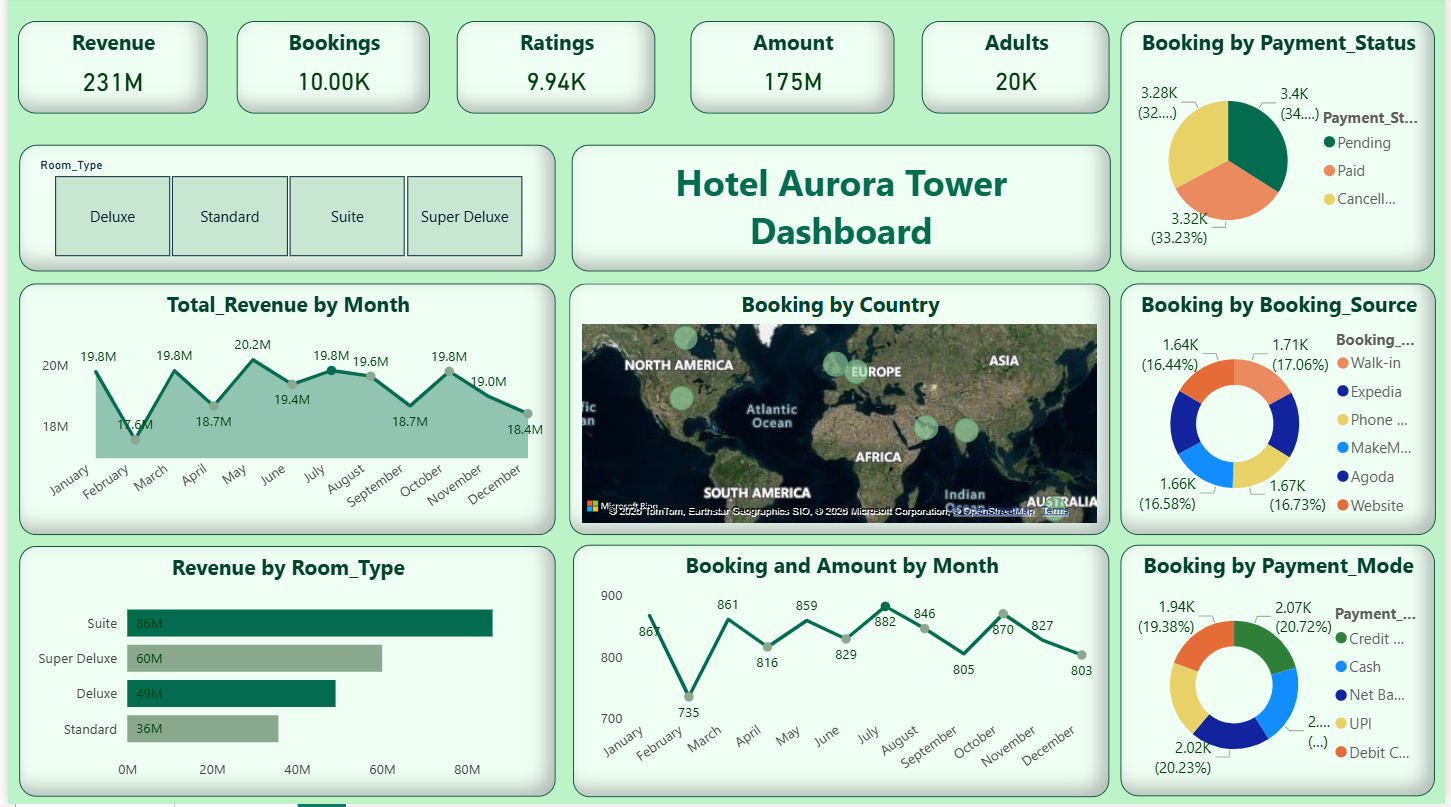

Layout of this report page (visuals, bound fields, positions):
{"tool":"powerbi","page":{"name":"final Dashboard","canvas":[1280,720],"ordinal":0},"visuals":[{"type":"pieChart","title":"Booking by Payment_Status","fields":{"Category":["Hotel Aurora Towers.Payment_Status"],"Y":["CountNonNull(Hotel Aurora Towers.Booking_ID)"]},"box":[990.7,22.1,280.2,223.3],"z":0},{"type":"donutChart","title":"Booking by Booking_Source","fields":{"Category":["Hotel Aurora Towers.Booking_Source"],"Y":["CountNonNull(Hotel Aurora Towers.Booking_ID)"]},"box":[990.5,255.8,281.1,224.4],"z":1000},{"type":"donutChart","title":"Booking by Payment_Mode","fields":{"Category":["Hotel Aurora Towers.Payment_Mode"],"Y":["CountNonNull(Hotel Aurora Towers.Booking_ID)"]},"box":[990.5,488.6,279.9,224.4],"z":2000},{"type":"map","title":" Booking by Country","fields":{"Category":["Hotel Aurora Towers.Guest_Country"],"Size":["CountNonNull(Hotel Aurora Towers.Booking_ID)"]},"box":[499.5,255.8,481.4,224.4],"z":3000},{"type":"lineChart","title":"Booking and Amount by Month","fields":{"Category":["Hotel Aurora Towers.Booking_Date.Variation.Date Hierarchy.Month"],"Y":["CountNonNull(Hotel Aurora Towers.Booking_ID)"]},"box":[503.5,488.4,477.9,224.4],"z":4000},{"type":"areaChart","title":"Total_Revenue by Month","fields":{"Category":["Hotel Aurora Towers.Booking_Date.Variation.Date Hierarchy.Month"],"Y":["Sum(Hotel Aurora Towers.Total_Revenue)"]},"box":[9.7,255.8,477.8,224.4],"z":5000},{"type":"clusteredBarChart","title":"Revenue by Room_Type","fields":{"Y":["Sum(Hotel Aurora Towers.Total_Revenue)"],"Category":["Hotel Aurora Towers.Room_Type"]},"box":[9.7,489.8,477.8,223.2],"z":6000},{"type":"slicer","fields":{"Values":["Hotel Aurora Towers.Room_Type"]},"box":[10.5,132.6,477.9,112.8],"z":7000},{"type":"card","title":"Revenue","fields":{"Values":["Sum(Hotel Aurora Towers.Total_Revenue)"]},"box":[9.3,22.1,168.6,82.6],"z":8000},{"type":"card","title":"Bookings","fields":{"Values":["CountNonNull(Hotel Aurora Towers.Booking_ID)"]},"box":[203.5,22.1,172.1,82.6],"z":9000},{"type":"card","title":"Ratings","fields":{"Values":["Sum(Hotel Aurora Towers.Customer_Rating)"]},"box":[400,22.1,176.7,82.6],"z":10000},{"type":"card","title":"Amount","fields":{"Values":["Sum(Hotel Aurora Towers.Booking_Amount)"]},"box":[608.1,22.1,181.4,82.6],"z":11000},{"type":"card","title":"Adults","fields":{"Values":["Sum(Hotel Aurora Towers.Adults)"]},"box":[814,22.1,167.4,82.6],"z":12000},{"type":"textbox","box":[502.3,132.6,480.2,112.8],"z":13000}]}

Visuals, with their boxes in screenshot pixels (x1, y1, x2, y2), scaled from the page's 1280x720 canvas onto the 1451x807 screenshot:
"Booking by Payment_Status" pieChart: select_region(1123, 25, 1441, 275)
"Booking by Booking_Source" donutChart: select_region(1123, 287, 1441, 538)
"Booking by Payment_Mode" donutChart: select_region(1123, 548, 1440, 799)
" Booking by Country" map: select_region(566, 287, 1112, 538)
"Booking and Amount by Month" lineChart: select_region(571, 547, 1113, 799)
"Total_Revenue by Month" areaChart: select_region(11, 287, 553, 538)
"Revenue by Room_Type" clusteredBarChart: select_region(11, 549, 553, 799)
slicer - Hotel Aurora Towers.Room_Type: select_region(12, 149, 554, 275)
"Revenue" card: select_region(11, 25, 202, 117)
"Bookings" card: select_region(231, 25, 426, 117)
"Ratings" card: select_region(453, 25, 654, 117)
"Amount" card: select_region(689, 25, 895, 117)
"Adults" card: select_region(923, 25, 1113, 117)
textbox: select_region(569, 149, 1114, 275)
